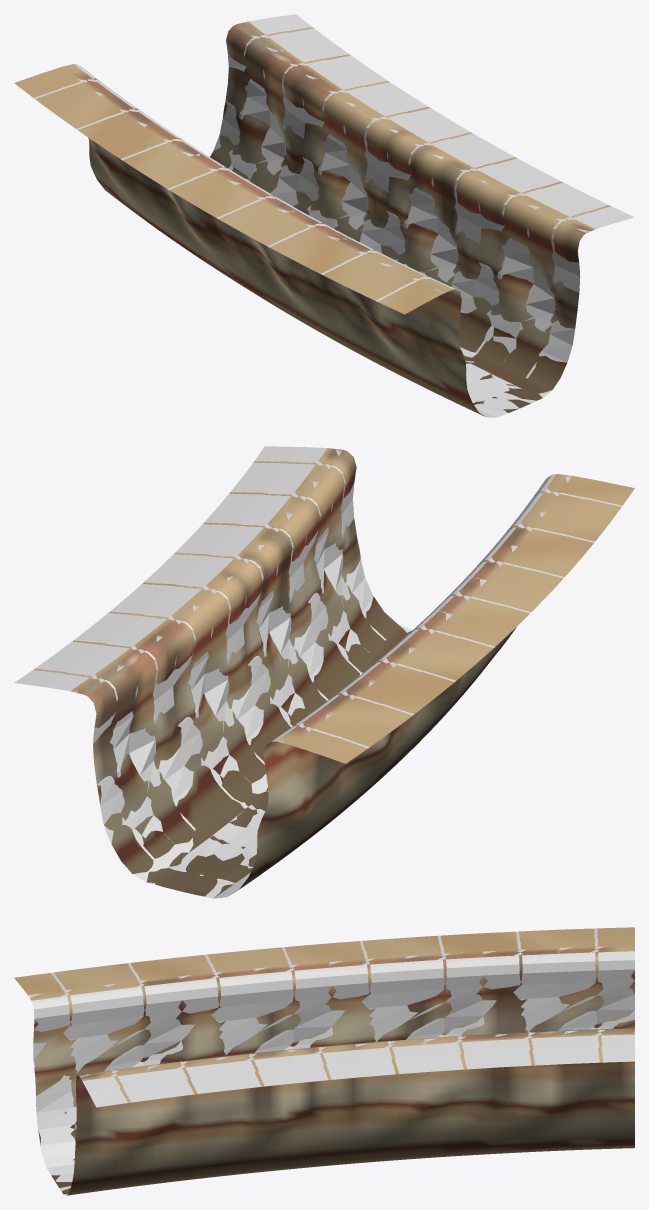
The model's file is slot_canyon_flow_bend15.glb.
3 renders of one model, top to bottom at view 1: azimuth 30°, elevation 25°; view 2: azimuth 150°, elevation 25°; view 3: azimuth 270°, elevation 25°, orthographic. The views are drawn at different scales.
Visible parts, largest first — view 1: slot_canyon_flow_bend15, slot_canyon_flow_bend15-col; view 2: slot_canyon_flow_bend15, slot_canyon_flow_bend15-col; view 3: slot_canyon_flow_bend15, slot_canyon_flow_bend15-col.
Boxes of the visible parts, <box> form: slot_canyon_flow_bend15: <box>14,17,610,416</box>; slot_canyon_flow_bend15-col: <box>34,14,634,417</box>; slot_canyon_flow_bend15: <box>34,446,634,897</box>; slot_canyon_flow_bend15-col: <box>14,446,622,898</box>; slot_canyon_flow_bend15: <box>14,927,634,1195</box>; slot_canyon_flow_bend15-col: <box>28,928,634,1195</box>.
Size of the model in its own units: 31.8 by 14.42 by 50.82.
